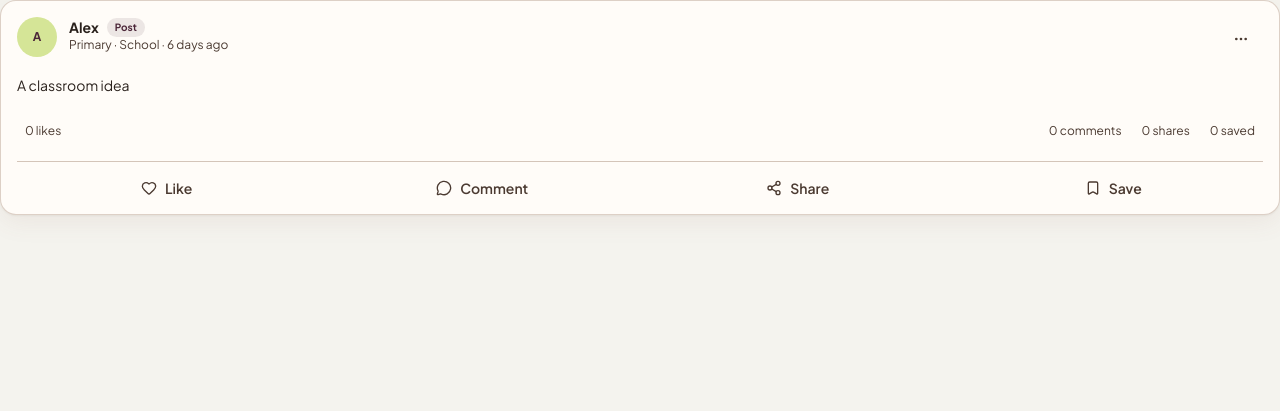
feed recovery › retries failed comment loading
The width and height of the screenshot is (1280, 411).
Click the button with aria-label "Comment on post" at (482,188), box [324,166,640,210]
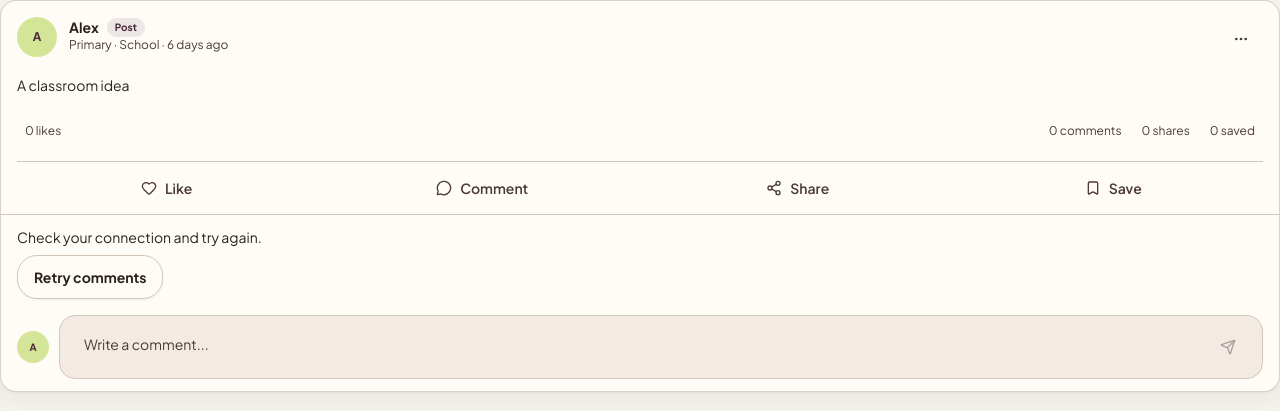
Click the button "Retry comments" at (90,277), box [17,255,164,299]
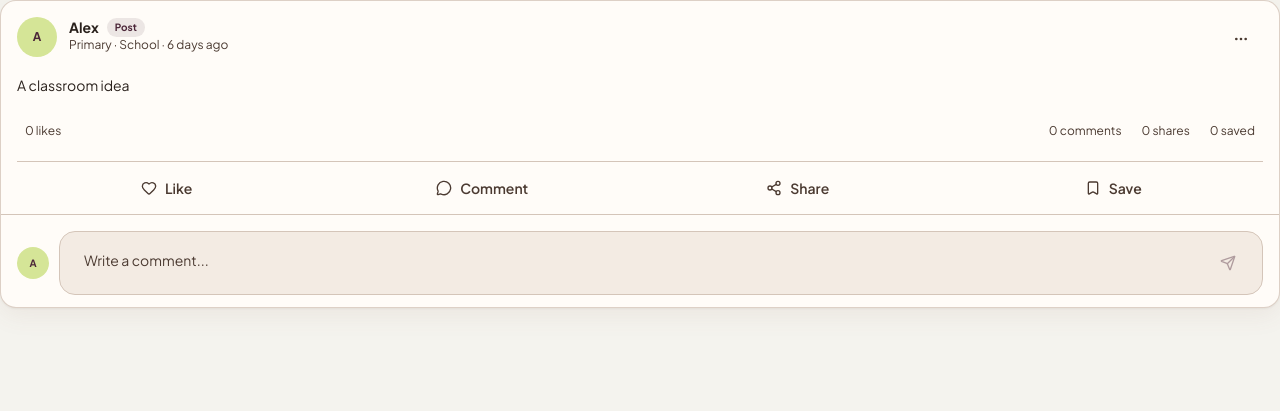
Expected: the button "Retry comments" is gone
